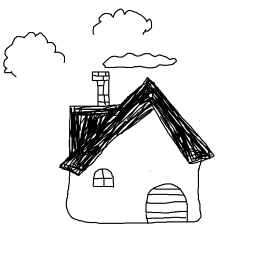chimney: (87, 67, 119, 112)
closed_window: (92, 168, 115, 188)
clouds: (2, 31, 66, 79), (91, 7, 153, 36), (101, 51, 176, 70)
door: (141, 178, 193, 228)
shaded_roof: (59, 76, 214, 176)
wall: (61, 109, 210, 229)
